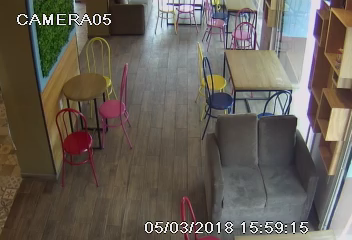libre: (47, 39, 128, 154), (192, 28, 289, 115), (198, 1, 271, 45)
